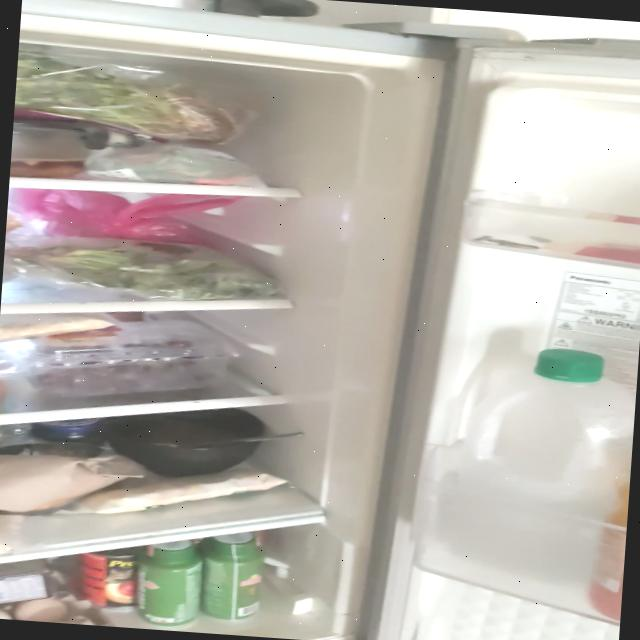leafy_greens: (12, 52, 248, 144), (2, 234, 284, 306)
tempeh: (74, 456, 289, 524)
